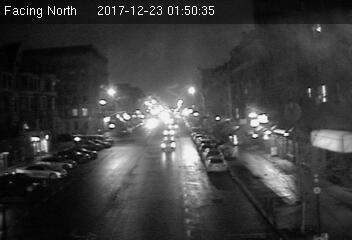car: (205, 155, 228, 172), (160, 138, 177, 151)
